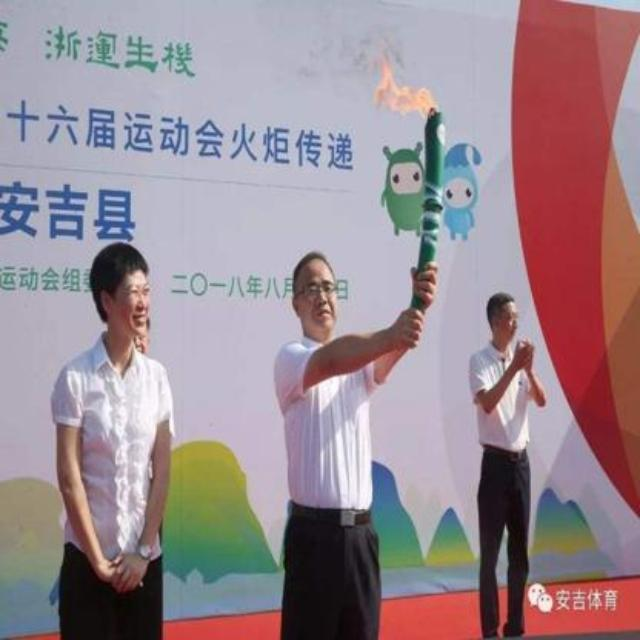Fire: (372, 60, 438, 118)
